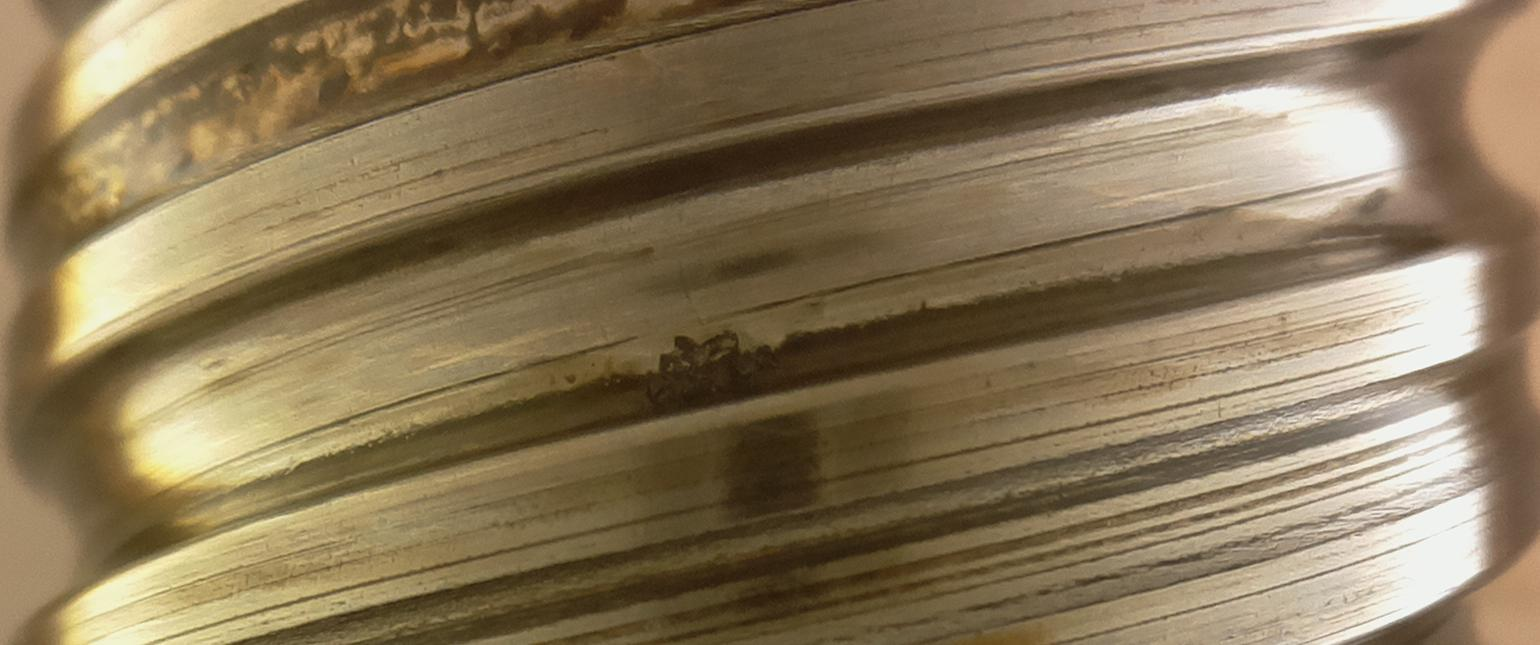pitting: (646, 330, 780, 419)
